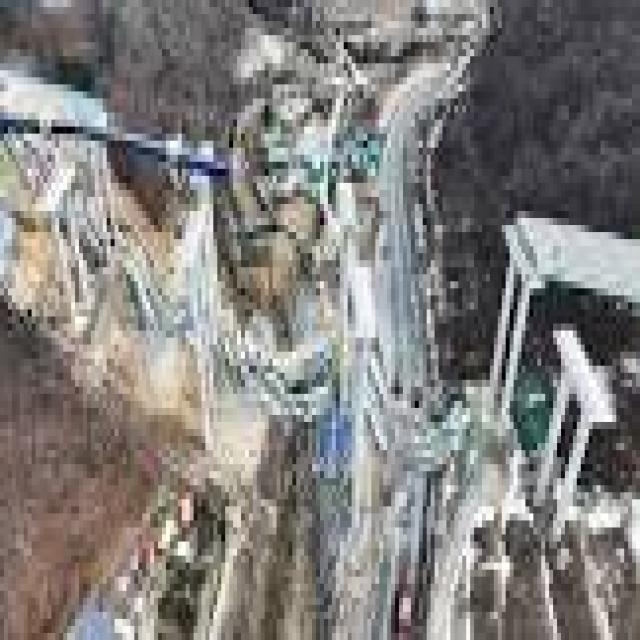bridge collapse: (20, 7, 640, 640)
